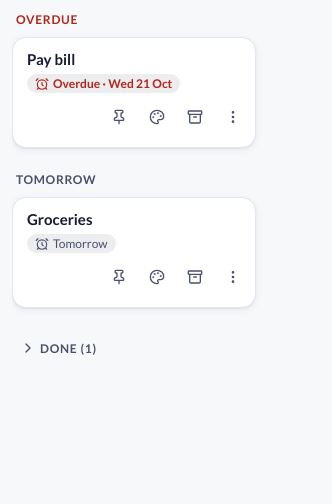
Scenario: UpcomingView › keeps Done collapsed until asked
Expected: the text "Dentist" is not shown
Step 1. Click the button "Done (1)" → (60, 348), box [16,332,105,364]
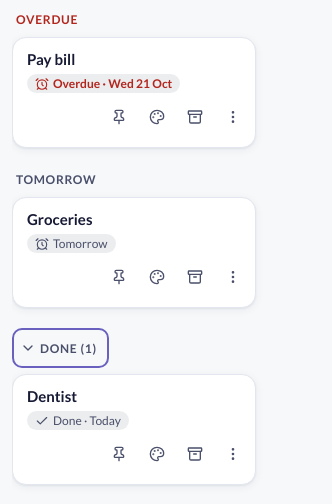
Expected: the button "Done (1)" is expanded, [16,332,105,364]
Expected: the heading "Dentist" is shown, [27,387,77,405]
